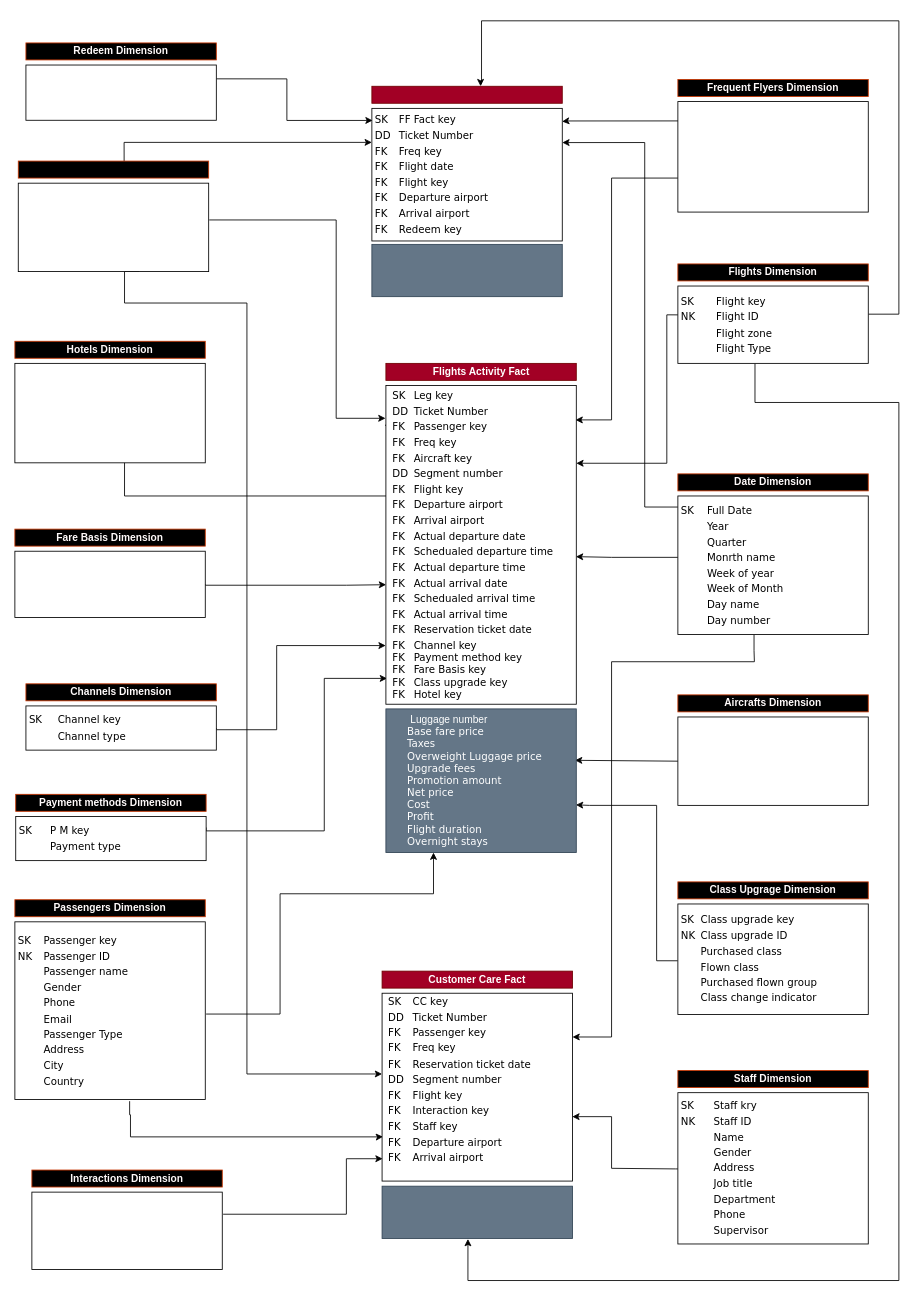
Image size: 921x1302. Some labels were removed from this diagram. Each missing label, with the centre of its shape:
Airports Dimension: [113,169]
Frequent Flyers Fact: [466,94]
Miles Earned Miles Flown Promotion response: [466,270]
Problem severity Feedback rate Seat number: [476,1211]
SK Aircraft key NK Aircraft ID Model Company Seats Capacity: [772,760]
SK Airport key NK Airport ID Airport name City Country: [113,227]
SK Fare Basis key Status Code Promotion: [109,584]
SK Freq key NK Freq ID Tier Club membership status Milage tier Membership status: [772,156]
SK Hotel key NK Hotel ID Stars Night price City Country: [109,413]
SK Interaction key Type Interaction time Description: [126,1230]
SK Redeem key Type Description: [120,92]
